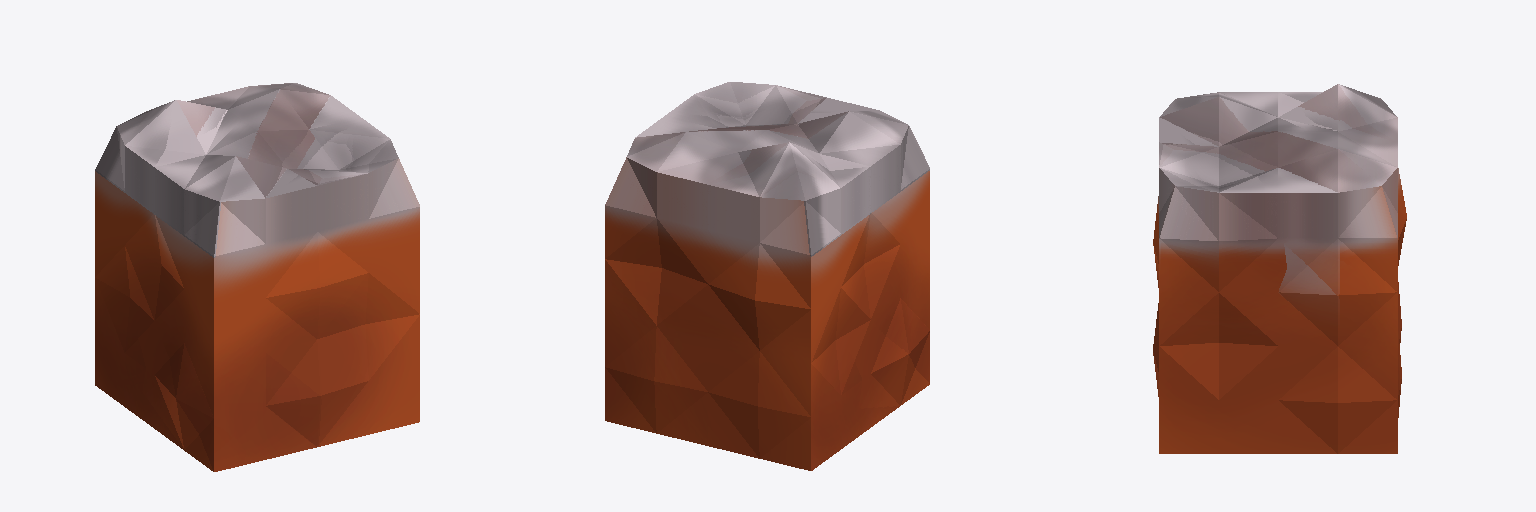
The picture shows the model from 3 angles: view 1: azimuth 30°, elevation 25°; view 2: azimuth 150°, elevation 25°; view 3: azimuth 270°, elevation 25°; orthographic projection.
Visible parts, largest first — view 1: Cube; view 2: Cube; view 3: Cube.
Part boxes in pixels (x1,y1,x2,y2): Cube: (95,83,419,471); Cube: (605,82,929,470); Cube: (1153,84,1406,453).
Size of the model in its own units: 1.99 by 2.53 by 1.98.
1 materials, 1 textured.